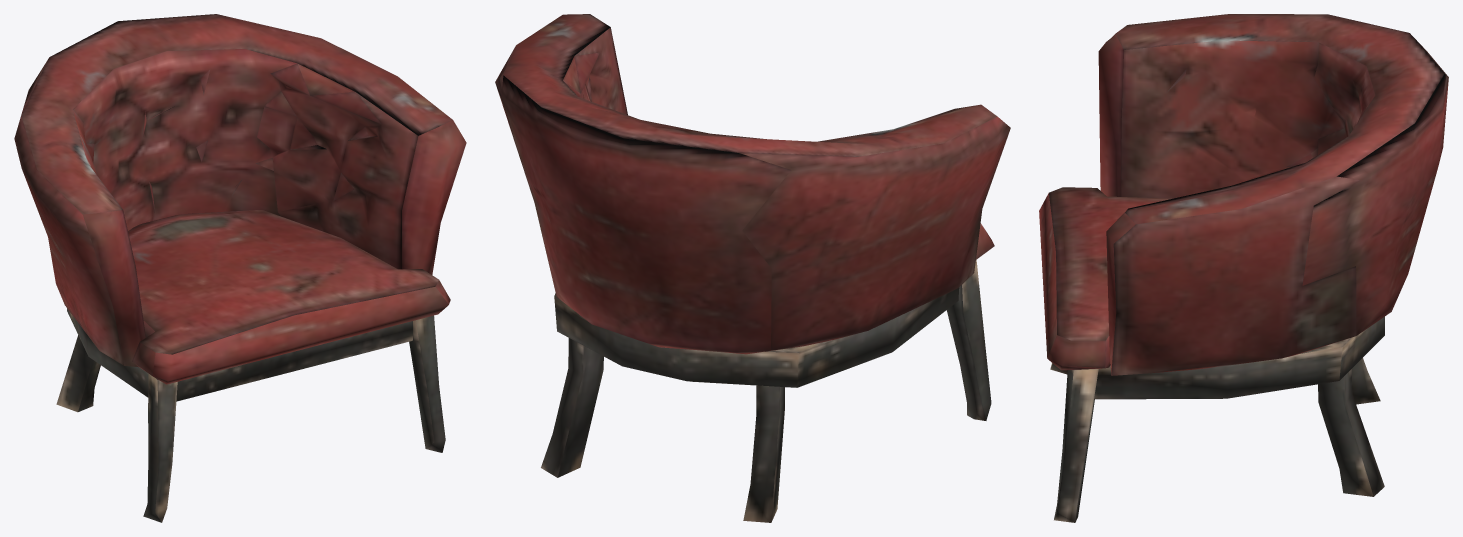
The model's file is SingleCouch 1.fbx.
3 renders of one model, left to right at view 1: azimuth 30°, elevation 25°; view 2: azimuth 150°, elevation 25°; view 3: azimuth 270°, elevation 25°, orthographic. The views are drawn at different scales.
Visible parts, largest first — view 1: ChairShape; view 2: ChairShape; view 3: ChairShape.
Boxes of the visible parts, x1=… form: ChairShape: x1=14, y1=14, x2=466, y2=522; ChairShape: x1=495, y1=14, x2=1010, y2=522; ChairShape: x1=1039, y1=14, x2=1448, y2=522.
Bounding box in the file's own units: 110 × 90 × 90.74.
1 material, 1 textured.
